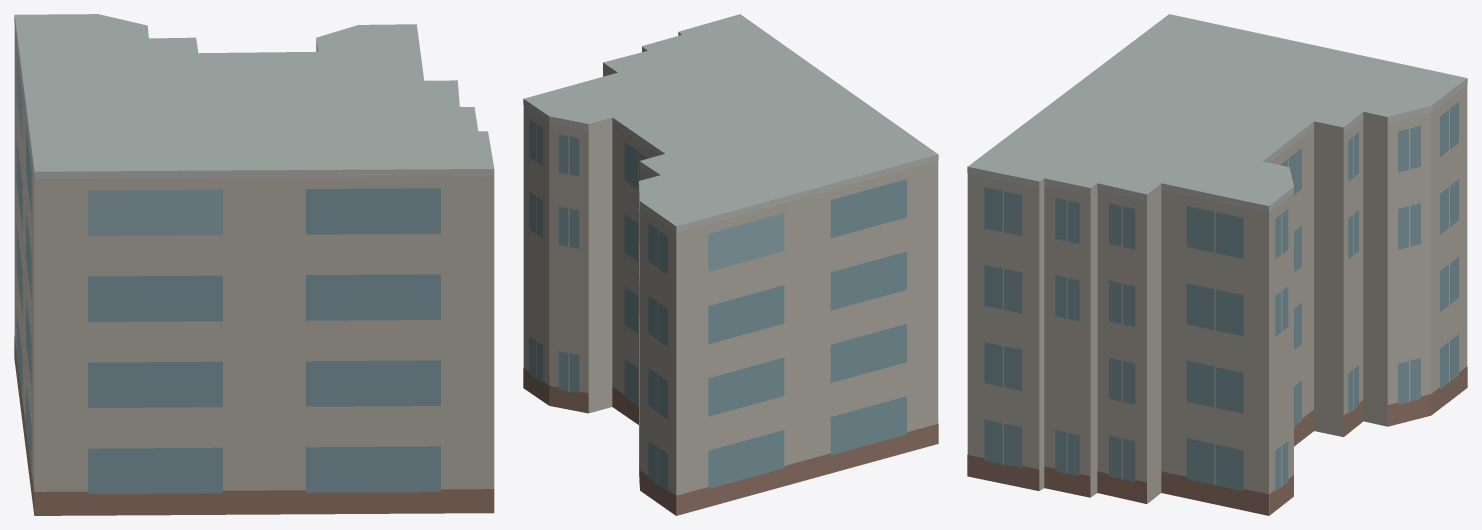
The model's file is survey-upis-32980651.glb.
3 views of the same model, side by side, from view 1: azimuth 30°, elevation 25°; view 2: azimuth 150°, elevation 25°; view 3: azimuth 270°, elevation 25° (orthographic). The views are drawn at different scales.
Parts seen in each view (by area): view 1: survey-upis-32980651.tmp; view 2: survey-upis-32980651.tmp; view 3: survey-upis-32980651.tmp.
Part boxes in pixels (x1,y1,x2,y2): survey-upis-32980651.tmp: [14, 14, 494, 515]; survey-upis-32980651.tmp: [523, 14, 938, 515]; survey-upis-32980651.tmp: [967, 14, 1467, 515].
Size of the model in its own units: 14.85 by 11.15 by 16.32.
